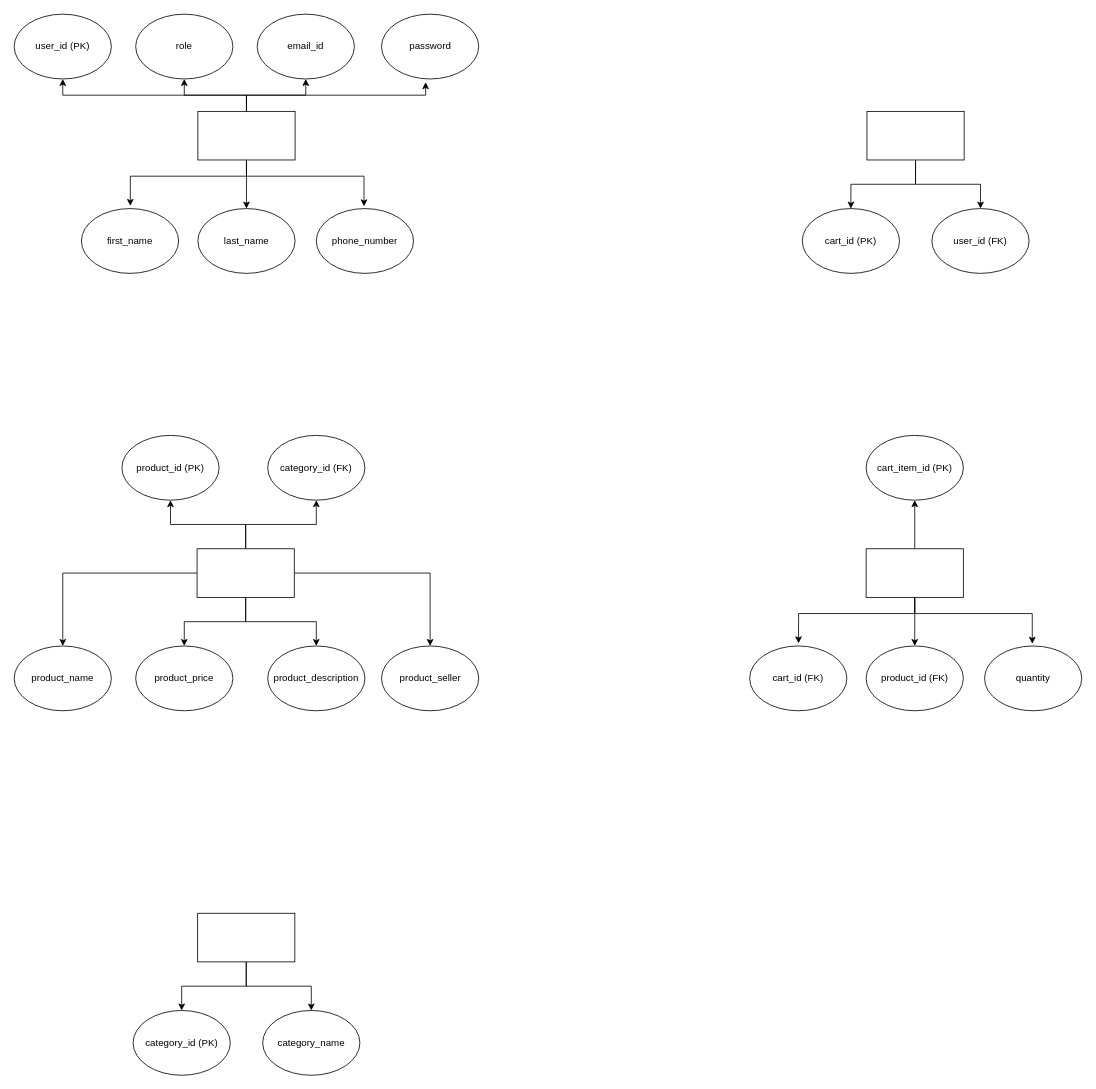
The diagram is 1096 pixels wide and 1089 high, and some of its shapes have lost their labels. Each missing label, with the centre of its shape:
cart_items: the point at 914,572
carts: the point at 915,135
product_category: the point at 246,937
products: the point at 245,572
users: the point at 246,135
